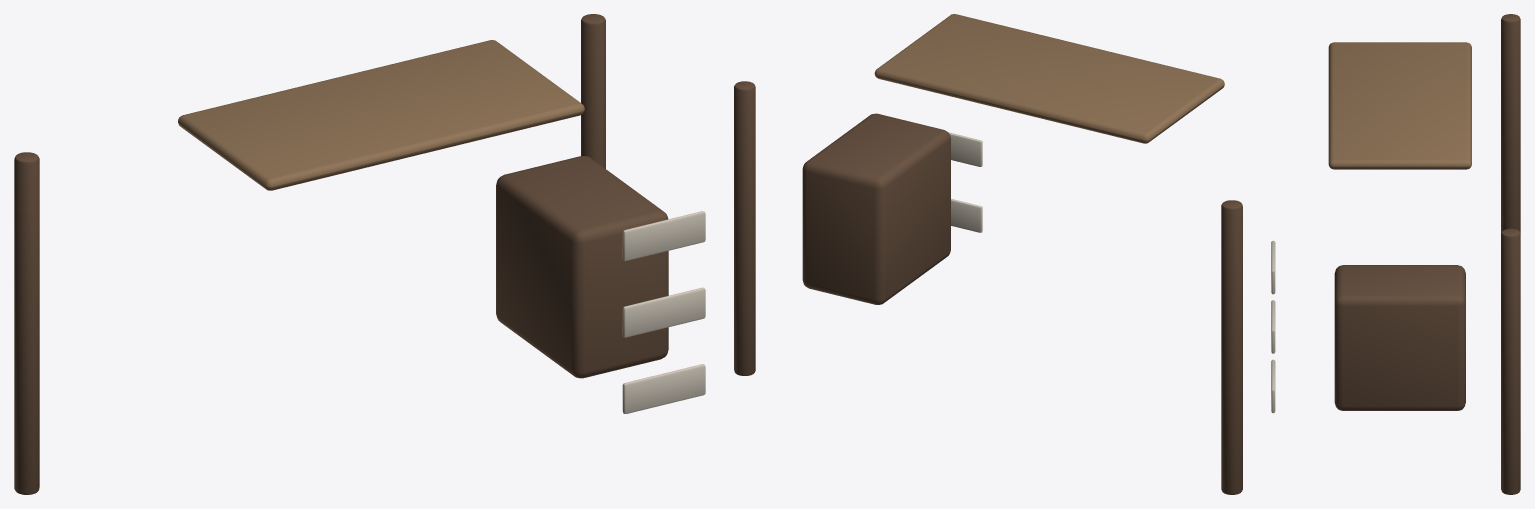
The model's file is desk.glb.
3 renders of one model, left to right at view 1: azimuth 30°, elevation 25°; view 2: azimuth 150°, elevation 25°; view 3: azimuth 270°, elevation 25°, orthographic. The views are drawn at different scales.
Visible parts, largest first — view 1: top, pedestal, leg, leg.001, drawer1, drawer2, drawer0; view 2: pedestal, top, leg, leg.001, drawer1, drawer0; view 3: pedestal, top, leg.001, leg.
Boxes of the visible parts, bbox=[...] form: top: bbox=[178, 40, 584, 190]; pedestal: bbox=[496, 156, 668, 378]; leg: bbox=[14, 152, 39, 494]; leg.001: bbox=[581, 14, 605, 168]; drawer1: bbox=[622, 287, 705, 337]; drawer2: bbox=[622, 211, 705, 260]; drawer0: bbox=[622, 364, 705, 413]; pedestal: bbox=[802, 113, 950, 304]; top: bbox=[874, 14, 1224, 143]; leg: bbox=[1221, 200, 1242, 494]; leg.001: bbox=[734, 81, 755, 375]; drawer1: bbox=[948, 132, 982, 166]; drawer0: bbox=[951, 199, 982, 232]; pedestal: bbox=[1334, 265, 1465, 410]; top: bbox=[1328, 42, 1471, 169]; leg.001: bbox=[1501, 228, 1520, 494]; leg: bbox=[1501, 14, 1520, 233].
Size of the model in its own units: 1.29 by 0.7625 by 0.609.
